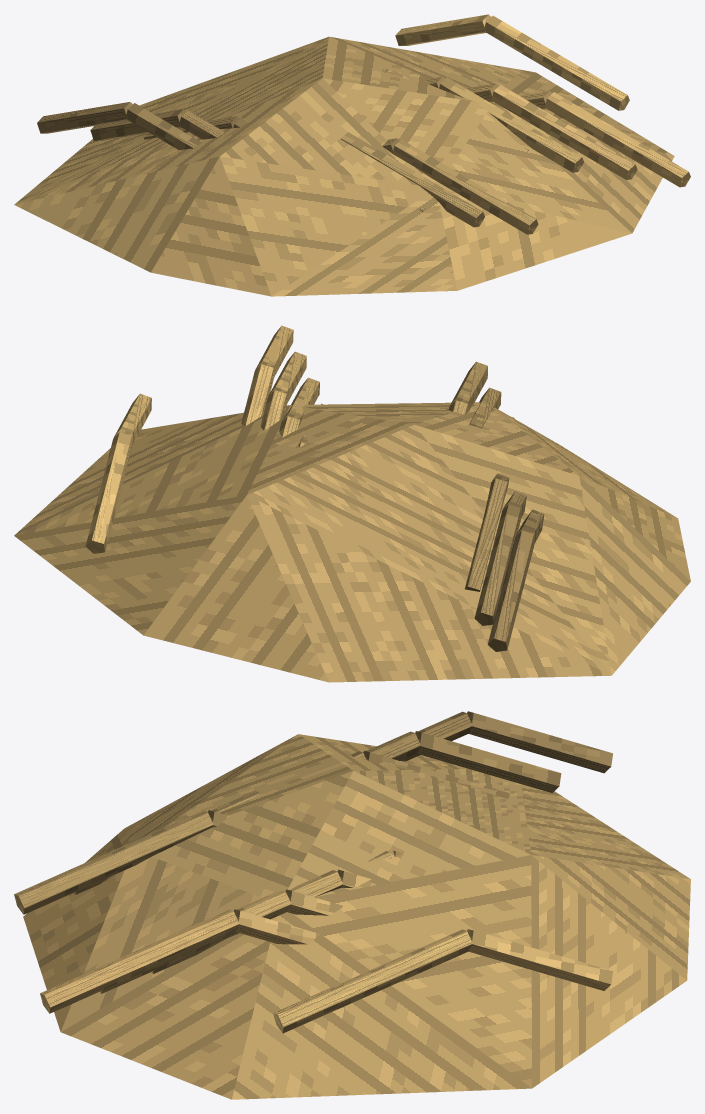
The model's file is straw_pile.glb.
3 renders of one model, top to bottom at view 1: azimuth 30°, elevation 25°; view 2: azimuth 150°, elevation 25°; view 3: azimuth 270°, elevation 25°, orthographic. The views are drawn at different scales.
Parts seen in each view (by area): view 1: block_loose bundle, block_individual fiber 1 (×8), block_individual fiber 0 (×3); view 2: block_loose bundle, block_individual fiber 0 (×6), block_individual fiber 1 (×6); view 3: block_loose bundle, block_individual fiber 1 (×7), block_individual fiber 0 (×6).
Part boxes in pixels (bbox=[...]): block_loose bundle: bbox=[14, 36, 674, 296]; block_individual fiber 1 (×8): bbox=[125, 15, 690, 234]; block_individual fiber 0 (×3): bbox=[37, 14, 490, 140]; block_loose bundle: bbox=[14, 402, 690, 682]; block_individual fiber 0 (×6): bbox=[85, 364, 534, 651]; block_individual fiber 1 (×6): bbox=[113, 325, 501, 445]; block_loose bundle: bbox=[23, 734, 690, 1099]; block_individual fiber 1 (×7): bbox=[14, 711, 472, 1033]; block_individual fiber 0 (×6): bbox=[234, 711, 612, 990].
Size of the model in its own units: 0.1184 by 0.0241 by 0.1022.
1 material, 1 textured.
